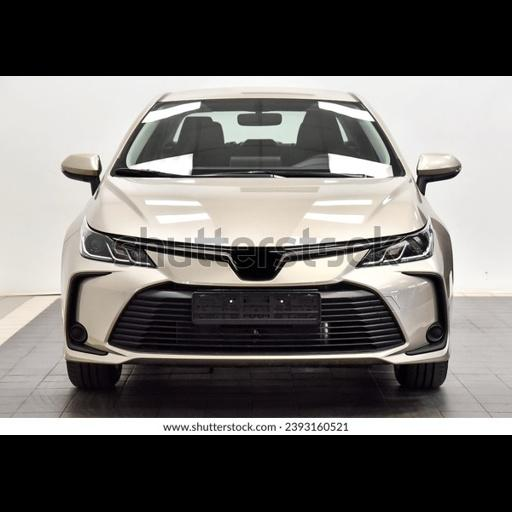sedan: (61, 89, 460, 387)
